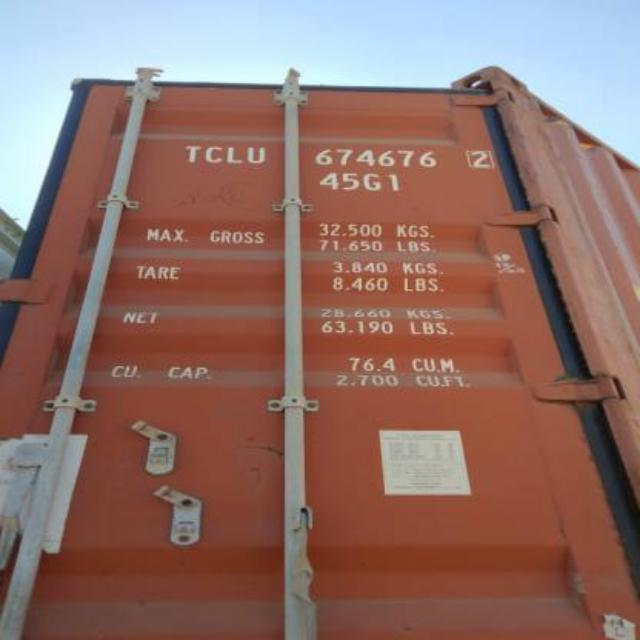2: (471, 151, 492, 167)
4: (356, 150, 374, 166)
6: (418, 151, 438, 167), (377, 150, 395, 166), (312, 152, 333, 164)
7: (334, 148, 356, 166), (396, 150, 414, 166)
C: (204, 145, 222, 165)
L: (226, 147, 242, 163)
T: (185, 146, 201, 162)
U: (248, 147, 264, 163)
